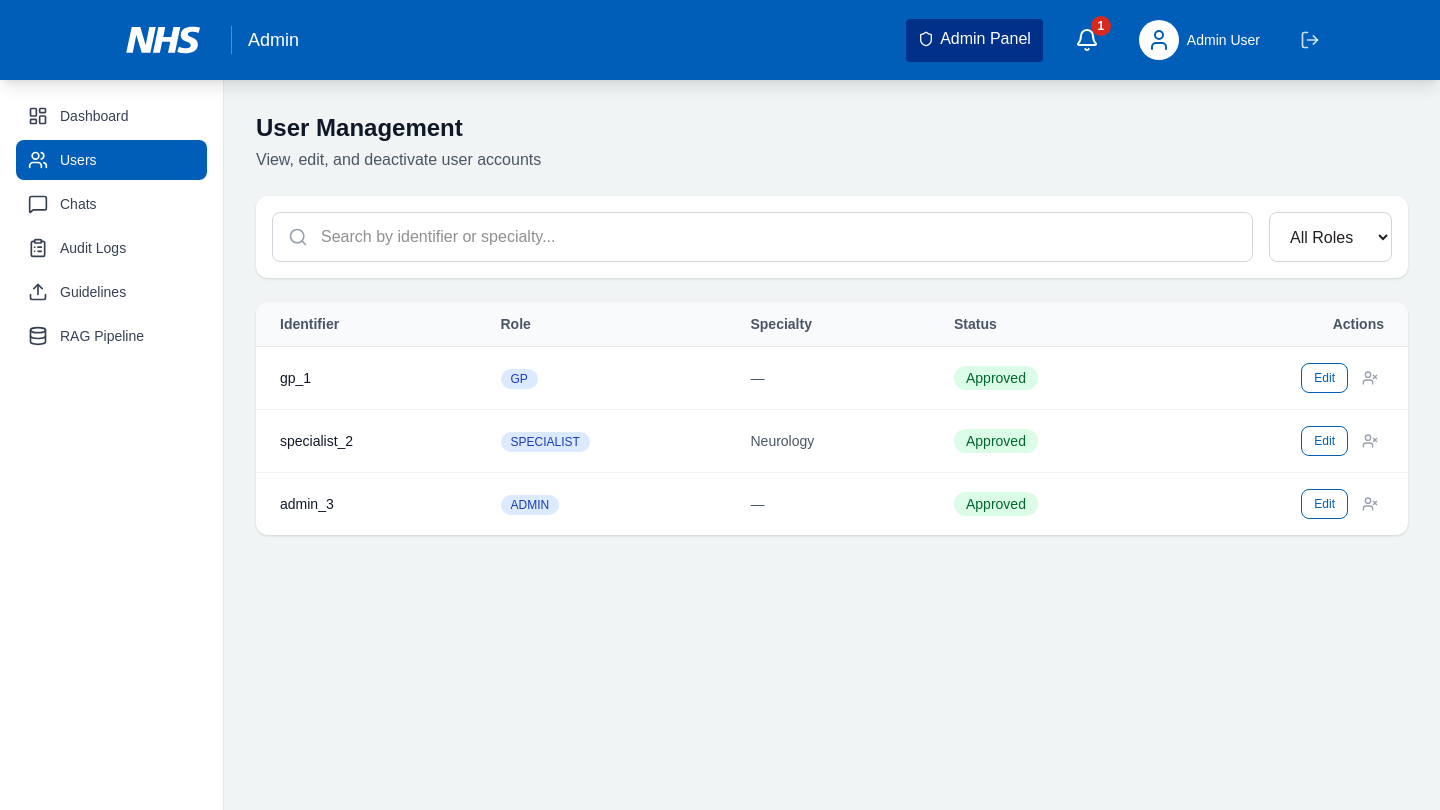
AdminUsersPage › closes edit modal when Cancel is clicked
Check: the text "gp_1" is shown, box [256,346,476,410]
Click the button "Edit" in the row of "gp_1" at (1325, 378), box [1301,363,1348,393]
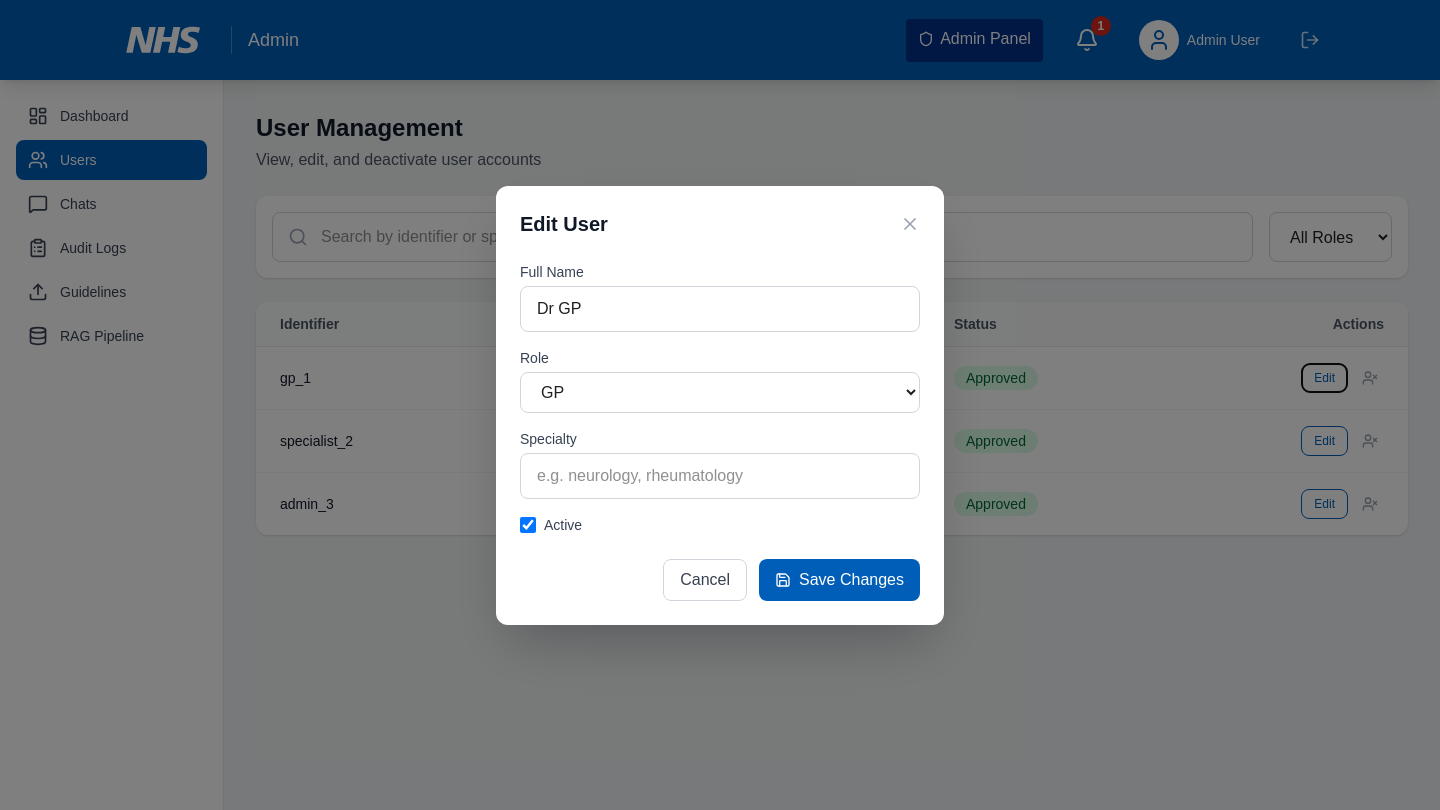
Check: the heading "Edit User" is shown, box [520,210,608,238]
Click the button "Cancel" at (705, 580), box [663,558,747,600]
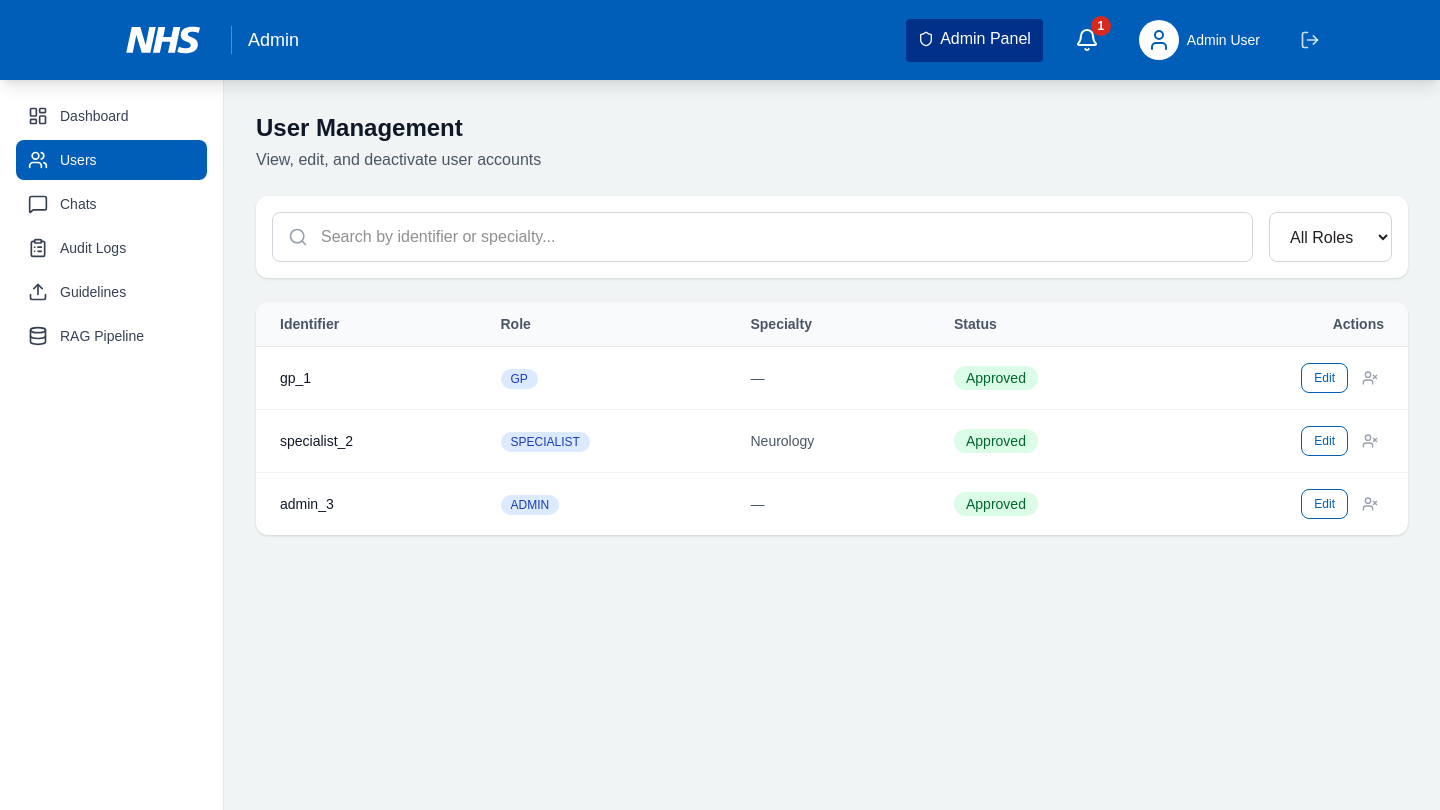
Check: the heading "Edit User" is gone
